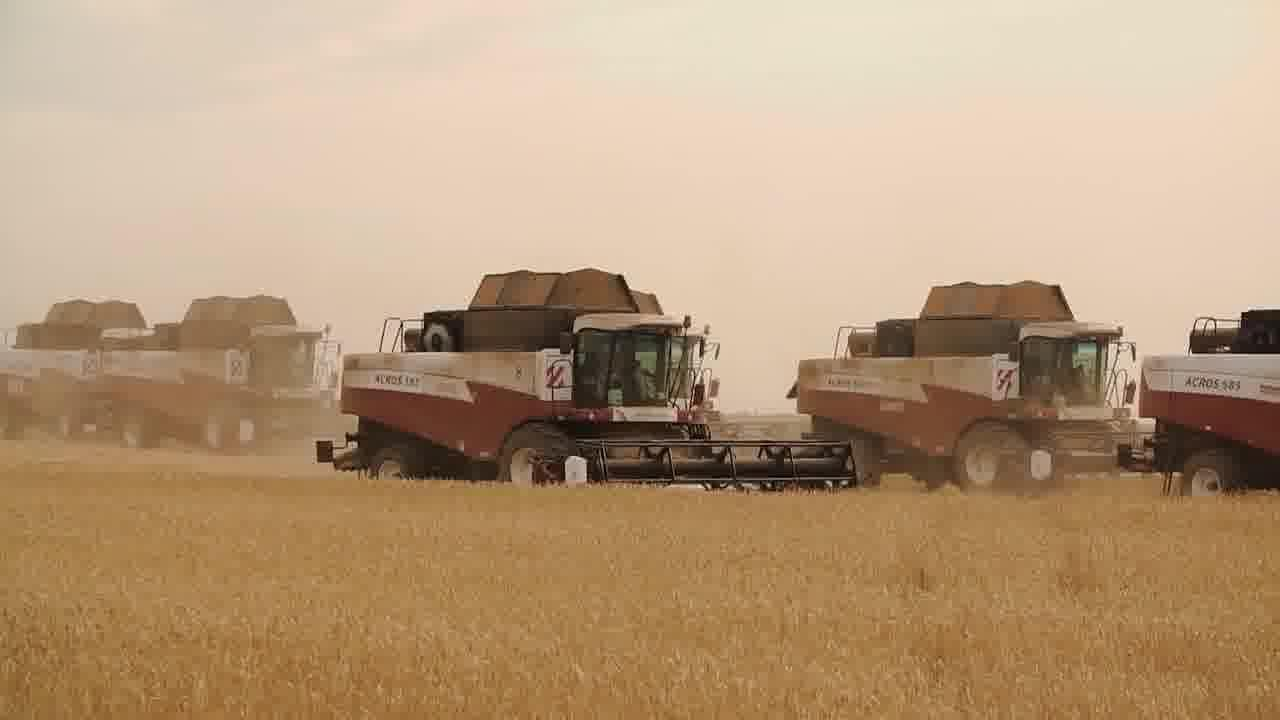combine harvester: (314, 262, 863, 487), (786, 274, 1146, 498), (90, 302, 345, 468), (1116, 297, 1280, 499), (0, 289, 150, 461)
